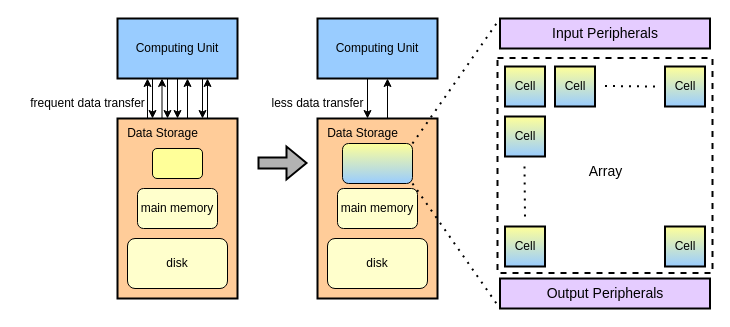
Some shapes in this 730 by 327 pixel diagram are drawn without their labels. The centre of each missing label's shape, as x and y in pixels:
"cache" belongs at pixel 177 163.
"SRAM-CIM Macro" belongs at pixel 377 163.
